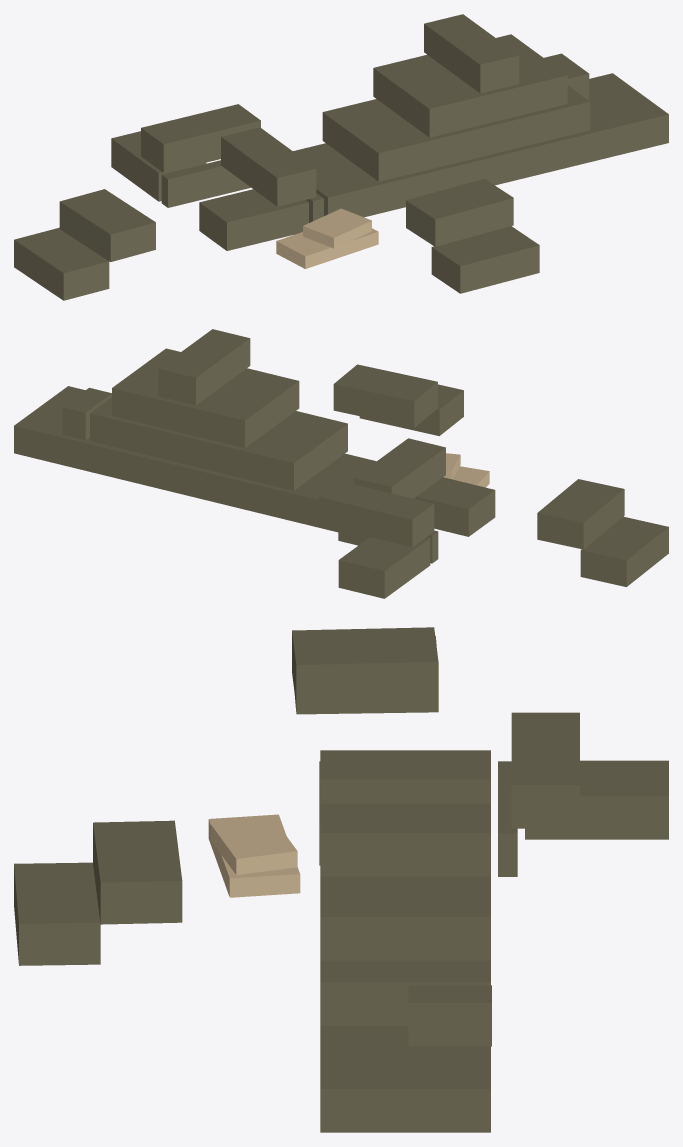
Rendered from SM_SacosRemate_v1_Talud_e1_Danado_LOD1.fbx.
The picture shows the model from 3 angles, top to bottom: view 1: azimuth 30°, elevation 25°; view 2: azimuth 150°, elevation 25°; view 3: azimuth 270°, elevation 25°; orthographic projection. The views are drawn at different scales.
Parts seen in each view (by area): view 1: SM_sacos_piezas_v25_LOD1; view 2: SM_sacos_piezas_v25_LOD1; view 3: SM_sacos_piezas_v25_LOD1.
Boxes of the visible parts, x1=… form: SM_sacos_piezas_v25_LOD1: x1=14, y1=14, x2=668, y2=300; SM_sacos_piezas_v25_LOD1: x1=14, y1=329, x2=668, y2=598; SM_sacos_piezas_v25_LOD1: x1=14, y1=627, x2=668, y2=1132.
Bounding box in the file's own units: 6.08 × 1.18 × 3.68.
